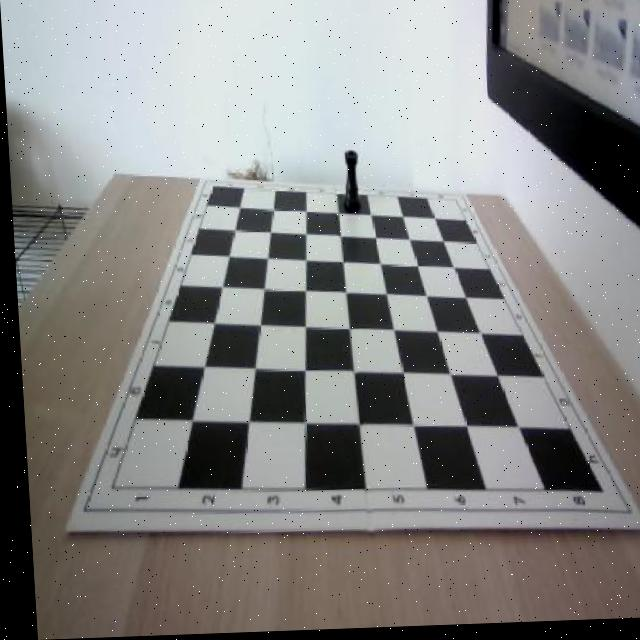black-queen: (340, 151, 360, 211)
